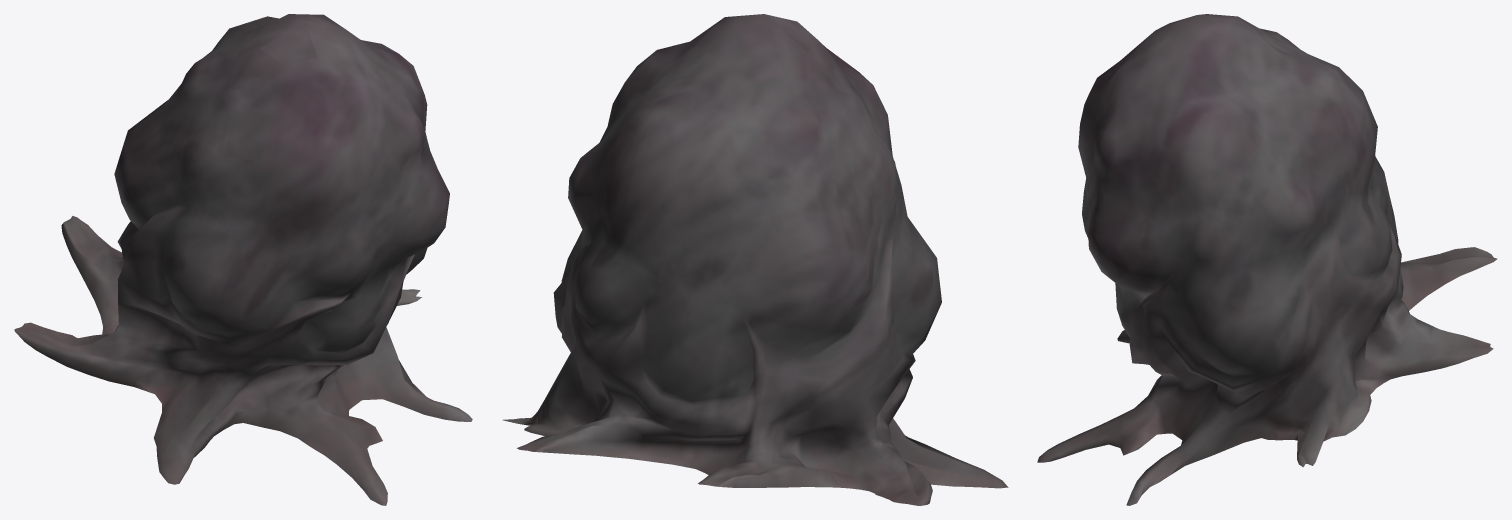
File: Cocoon (16).fbx
The picture shows the model from 3 angles, left to right: view 1: azimuth 30°, elevation 25°; view 2: azimuth 150°, elevation 25°; view 3: azimuth 270°, elevation 25°; orthographic projection. The views are drawn at different scales.
Parts seen in each view (by area): view 1: Egg; view 2: Egg; view 3: Egg.
Part boxes in pixels (bbox=[...]): Egg: bbox=[14, 14, 472, 505]; Egg: bbox=[502, 14, 1008, 505]; Egg: bbox=[1037, 14, 1497, 505].
Bounding box in the file's own units: 1.46 × 1.55 × 1.46.
1 material, 1 textured.
